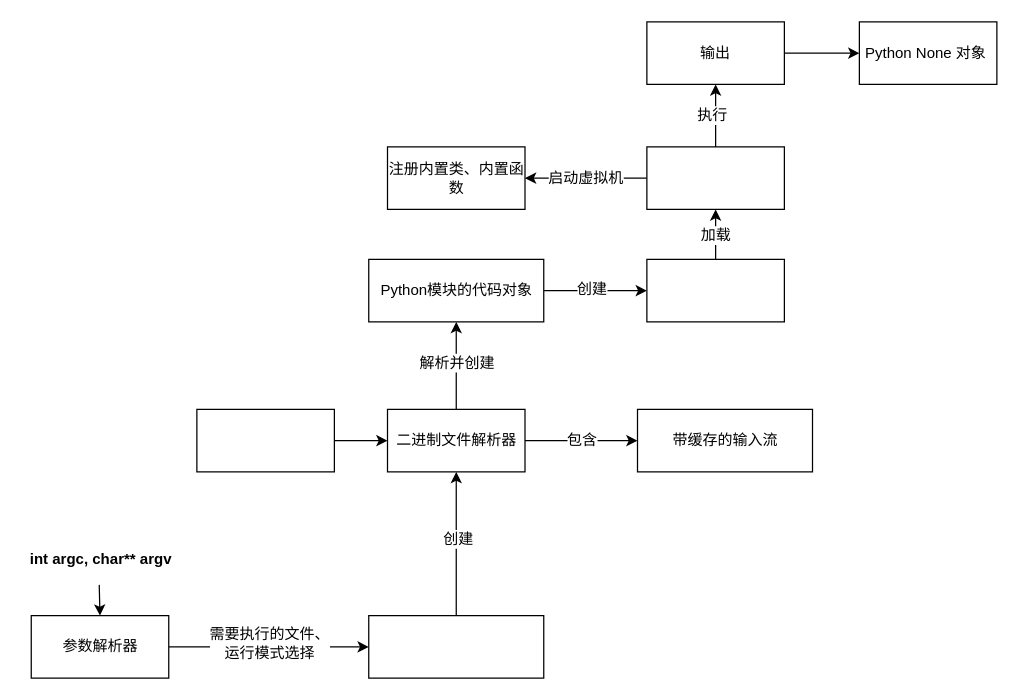
Some shapes in this 1019 by 700 pixel diagram are drawn without their labels. Each missing label, with the centre of its shape:
"入口栈帧" goes at point (715, 290).
"字节码文件" goes at point (265, 440).
"虚拟机入口管理模块" goes at point (456, 646).
"解释器" goes at point (715, 177).
